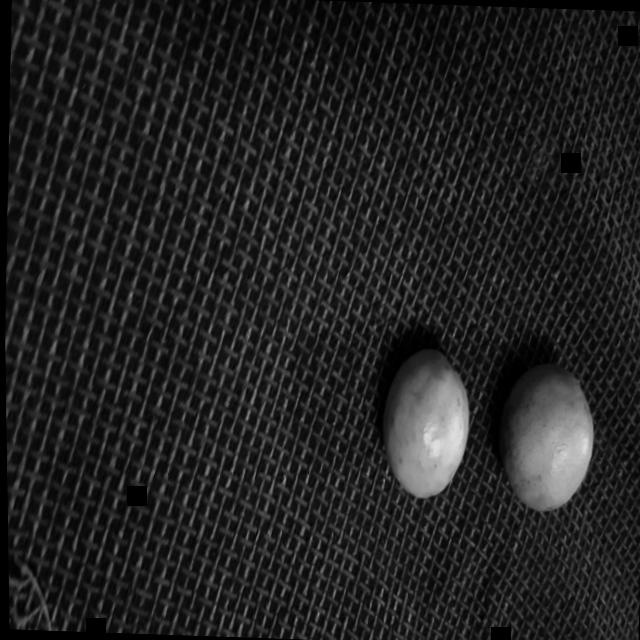lemon: (485, 346, 608, 519), (368, 342, 478, 506)
